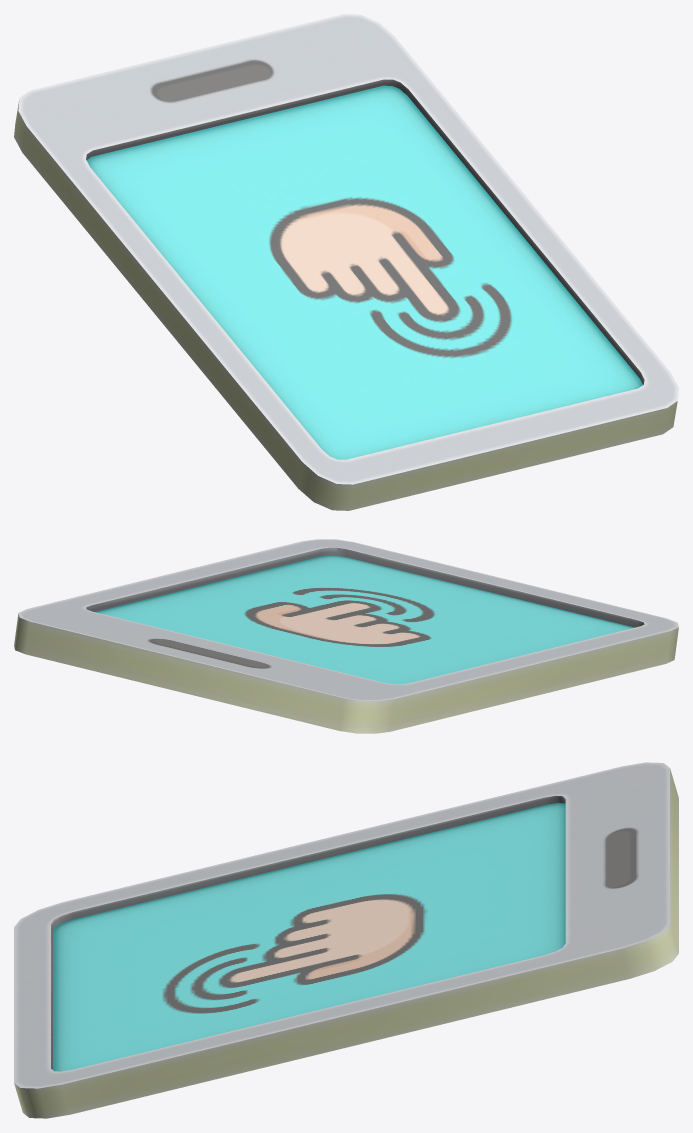
The model's file is indio.fbx.
3 renders of one model, top to bottom at view 1: azimuth 30°, elevation 25°; view 2: azimuth 150°, elevation 25°; view 3: azimuth 270°, elevation 25°, orthographic.
Parts seen in each view (by area): view 1: In_model; view 2: In_model; view 3: In_model.
Boxes of the visible parts, <box> form: In_model: <box>14,14,678,510</box>; In_model: <box>14,539,678,733</box>; In_model: <box>14,762,678,1118</box>.
Bounding box in the file's own units: 0.3064 × 0.1484 × 0.4725.
1 material, 1 textured.
